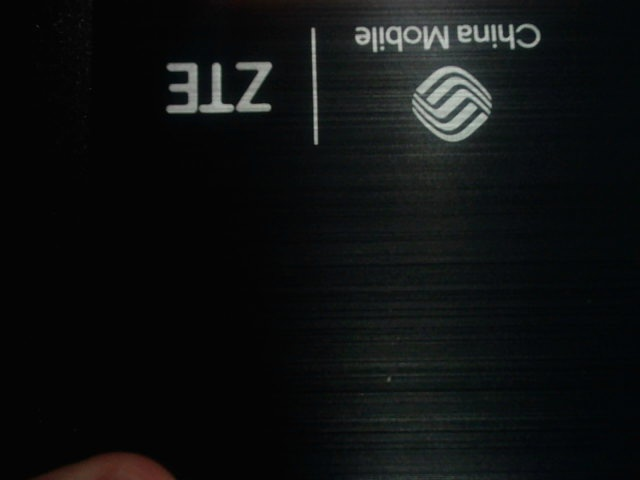AL_ZTEChinaMobile: (144, 16, 561, 149)
